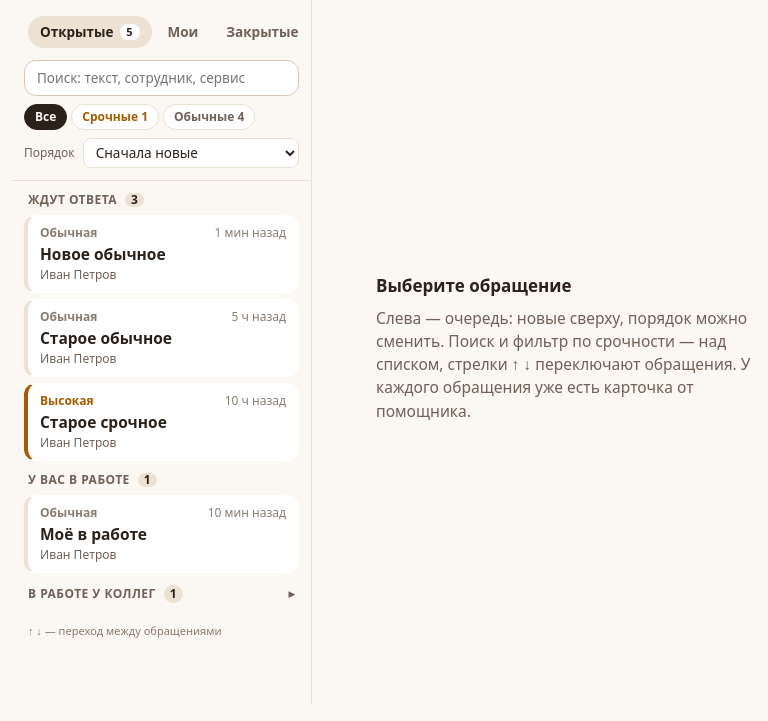
Test: the specialist's queue › shows the newest waiting request first and folds colleagues' work
Expected: the button "Обычная 1 мин назад Новое обычное Иван Петров" is shown, top-left (24, 215), bottom-right (299, 293)
Expected: the text "У коллеги" is not shown
Click the button "В работе у коллег 1 ▸": (162,592) top-left (12, 573), bottom-right (311, 611)
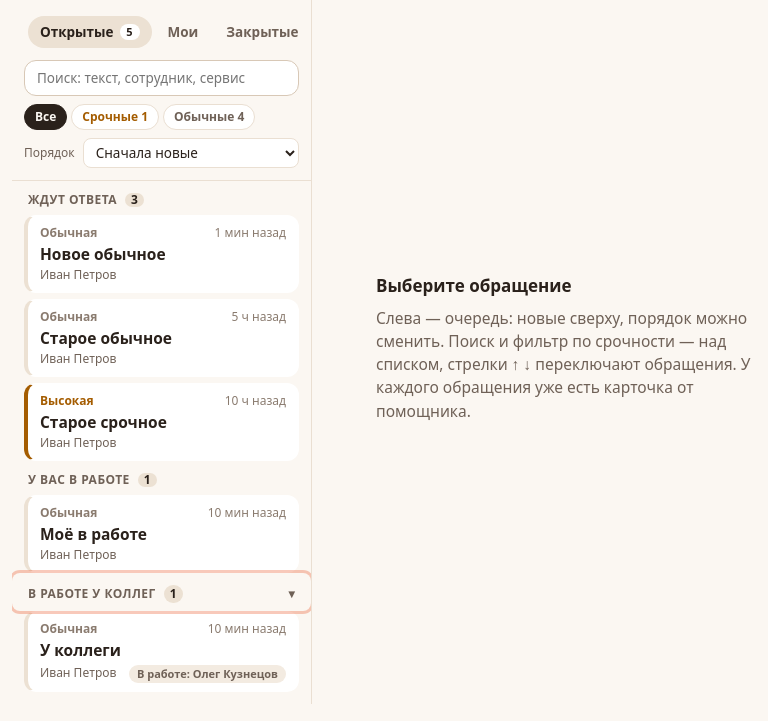
Now the text "У коллеги" is shown, box top-left (40, 639), bottom-right (121, 661)
